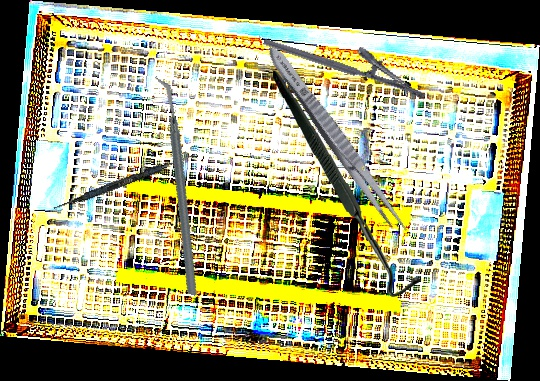Chopper: (96, 75, 257, 297)
Dressing Forceps: (260, 40, 414, 240)
Hook Surgical: (272, 65, 421, 301)
Needle Holder: (262, 16, 434, 101)
Spatula Surgical: (52, 148, 199, 215)
